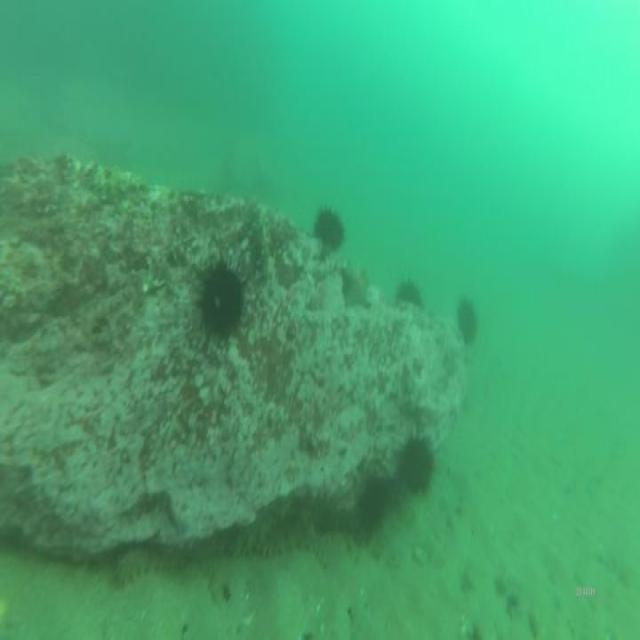echinus: (189, 246, 255, 364), (396, 427, 441, 507), (351, 460, 394, 540), (312, 201, 348, 256), (455, 291, 483, 351), (395, 270, 425, 310)
holothurian: (107, 540, 185, 596), (255, 507, 317, 561)
starfish: (336, 265, 375, 313)
